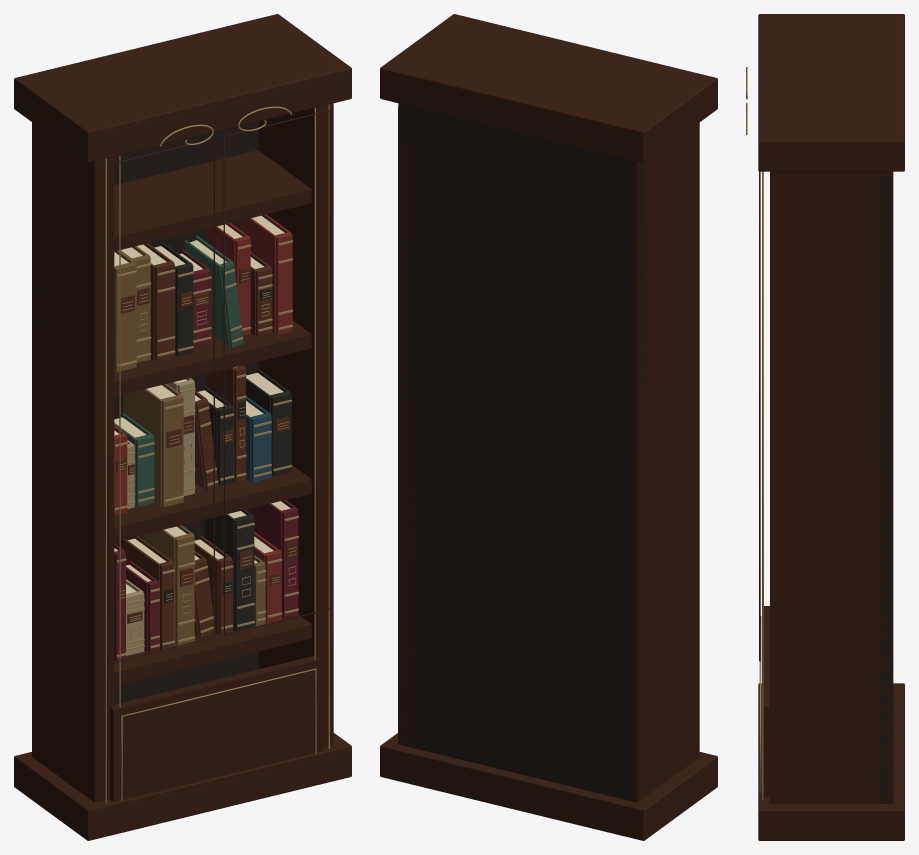
File: Display_Cabinet.fbx
3 renders of one model, left to right at view 1: azimuth 30°, elevation 25°; view 2: azimuth 150°, elevation 25°; view 3: azimuth 270°, elevation 25°, orthographic.
Visible parts, largest first — view 1: Upright.008, Plinth cornice.009, Upright.009, Raised wooden panel.020, Plinth cornice.008, Shelf.011, Back.004, Shelf.009, Shelf.010, Shelf.008, Panel moulding.138, Panel moulding.137 (+41 smaller); view 2: Back.004, Upright.008, Plinth cornice.009, Plinth cornice.008, Upright.009; view 3: Upright.009, Plinth cornice.009, Back.004, Plinth cornice.008, Panel moulding.136, Raised wooden panel.020, Panel moulding.138, Panel moulding.134.
Boxes of the visible parts, <box> form: Upright.008: <box>33,123,114,802</box>; Plinth cornice.009: <box>14,14,351,162</box>; Upright.009: <box>258,103,333,746</box>; Raised wooden panel.020: <box>109,656,322,801</box>; Plinth cornice.008: <box>14,733,351,840</box>; Shelf.011: <box>114,150,311,251</box>; Back.004: <box>32,121,258,757</box>; Shelf.009: <box>114,465,311,541</box>; Shelf.010: <box>114,320,311,396</box>; Shelf.008: <box>114,615,311,686</box>; Panel moulding.138: <box>223,110,330,635</box>; Panel moulding.137: <box>107,138,214,663</box>; Back.004: <box>398,103,644,802</box>; Upright.008: <box>617,122,699,802</box>; Plinth cornice.009: <box>380,14,717,162</box>; Plinth cornice.008: <box>380,733,717,840</box>; Upright.009: <box>398,103,417,748</box>; Upright.009: <box>770,171,893,803</box>; Plinth cornice.009: <box>758,14,904,171</box>; Back.004: <box>879,174,893,803</box>; Plinth cornice.008: <box>758,683,904,840</box>; Panel moulding.136: <box>762,171,763,800</box>; Raised wooden panel.020: <box>764,606,769,796</box>; Panel moulding.138: <box>759,171,760,661</box>; Panel moulding.134: <box>759,616,761,793</box>.
Size of the model in its own units: 1.05 by 2.7 by 0.553.
